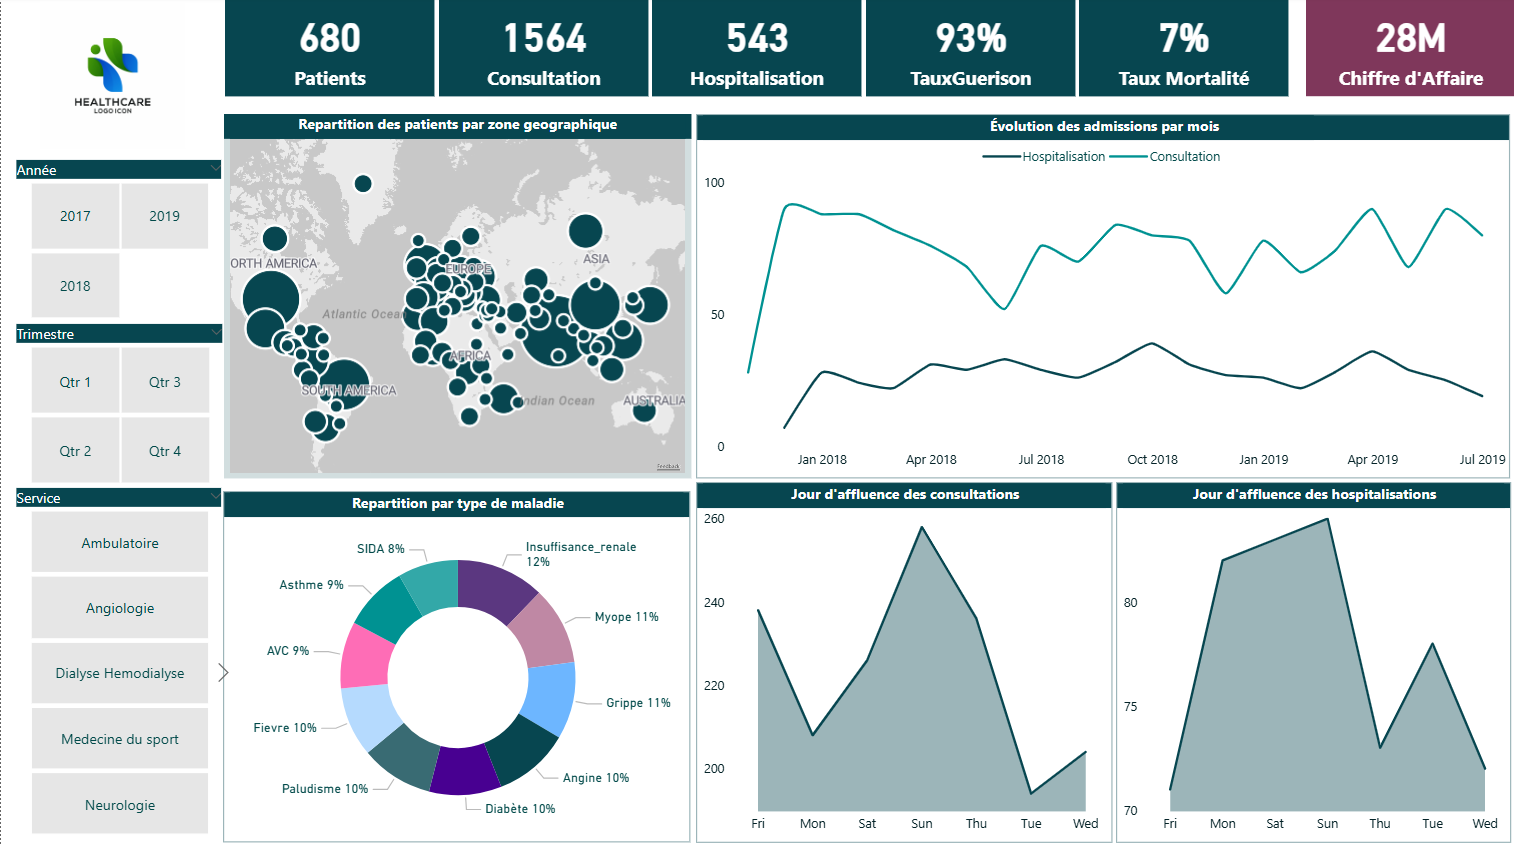

The page's visual inventory and layout, read from the dashboard file:
{"tool":"powerbi","page":{"name":"Executive Summary","canvas":[1280,720],"ordinal":0},"visuals":[{"type":"card","fields":{"Values":["factTrackingConsultation.totalPatient"]},"box":[189.5,0,177.4,83.7],"z":0},{"type":"card","fields":{"Values":["Operations.CA"]},"box":[1102.6,1,177.4,82.6],"z":1000},{"type":"card","fields":{"Values":["factTrackingConsultation.totalConsultation"]},"box":[369.9,0,177.4,83.7],"z":2000},{"type":"card","fields":{"Values":["factHospitalisation.TauxMortalite"]},"box":[911.1,0,177.4,83.7],"z":3000},{"type":"card","fields":{"Values":["factHospitalisation.totalHospitalisation"]},"box":[550.3,0,177.4,83.7],"z":4000},{"type":"card","fields":{"Values":["factHospitalisation.TauxGuerison"]},"box":[730.7,0,177.4,83.7],"z":5000},{"type":"lineChart","title":"Évolution des admissions par mois","fields":{"Category":["DateTable.Date.Variation.Date Hierarchy.Year","DateTable.Date.Variation.Date Hierarchy.Quarter","DateTable.Date.Variation.Date Hierarchy.Month"],"Y":["factHospitalisation.totalHospitalisation","factTrackingConsultation.totalConsultation"]},"box":[587.6,98.8,688.4,308.4],"z":6000},{"type":"azureMap","title":"Repartition des patients par zone geographique","fields":{"Category":["dimCountry.country"],"Size":["factTrackingConsultation.totalPatient"]},"box":[188.5,98.8,395.1,308.4],"z":7000},{"type":"areaChart","title":"Jour d''affluence des hospitalisations","fields":{"Category":["DateTable.Day of Week"],"Y":["factHospitalisation.totalHospitalisation"]},"box":[942.4,410.2,333.6,305.4],"z":8000},{"type":"donutChart","title":"Repartition par type de maladie","fields":{"Category":["dimDisease.name"],"Y":["factTrackingConsultation.totalConsultation"]},"box":[187.5,417.3,395.1,297.3],"z":9000},{"type":"areaChart","title":"Jour d''affluence des consultations","fields":{"Category":["DateTable.Day of Week"],"Y":["factTrackingConsultation.totalConsultation"]},"box":[587.6,410.2,351.7,305.4],"z":10000},{"type":"slicer","fields":{"Values":["DateTable.Date.Variation.Date Hierarchy.Quarter"]},"box":[0,271.1,199.6,146.1],"z":11000},{"type":"slicer","fields":{"Values":["DateTable.Date.Variation.Date Hierarchy.Year"]},"box":[0,133,199,145.1],"z":12000},{"type":"slicer","fields":{"Values":["dimService.name"]},"box":[0,410.2,199,304.4],"z":13000},{"type":"image","box":[0,0,188.5,133],"z":14000}]}

Visuals, with their boxes in screenshot pixels (x1, y1, x2, y2), scaled from the page's 1280x720 canvas onto the 1514x844 screenshot:
card - factTrackingConsultation.totalPatient: rect(224, 0, 434, 98)
card - Operations.CA: rect(1304, 1, 1513, 98)
card - factTrackingConsultation.totalConsultation: rect(438, 0, 647, 98)
card - factHospitalisation.TauxMortalite: rect(1078, 0, 1287, 98)
card - factHospitalisation.totalHospitalisation: rect(651, 0, 861, 98)
card - factHospitalisation.TauxGuerison: rect(864, 0, 1074, 98)
"Évolution des admissions par mois" lineChart: rect(695, 116, 1509, 477)
"Repartition des patients par zone geographique" azureMap: rect(223, 116, 690, 477)
"Jour d''affluence des hospitalisations" areaChart: rect(1115, 481, 1509, 839)
"Repartition par type de maladie" donutChart: rect(222, 489, 689, 838)
"Jour d''affluence des consultations" areaChart: rect(695, 481, 1111, 839)
slicer - DateTable.Date.Variation.Date Hierarchy.Quarter: rect(0, 318, 236, 489)
slicer - DateTable.Date.Variation.Date Hierarchy.Year: rect(0, 156, 235, 326)
slicer - dimService.name: rect(0, 481, 235, 838)
image: rect(0, 0, 223, 156)
